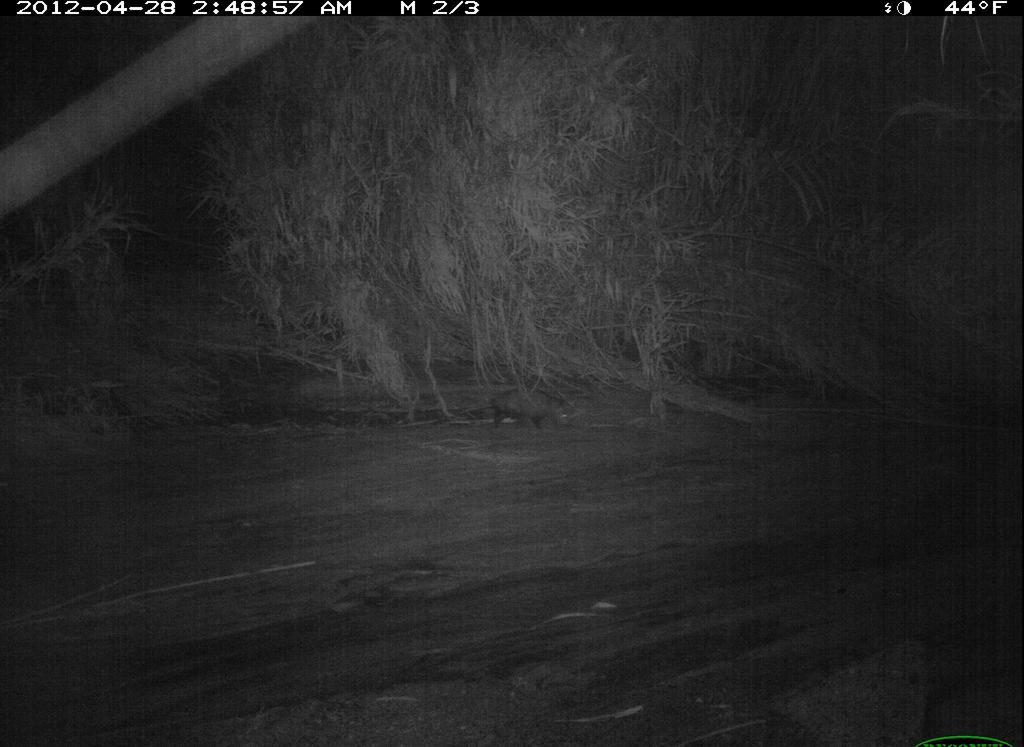opossum: (447, 372, 597, 452)
